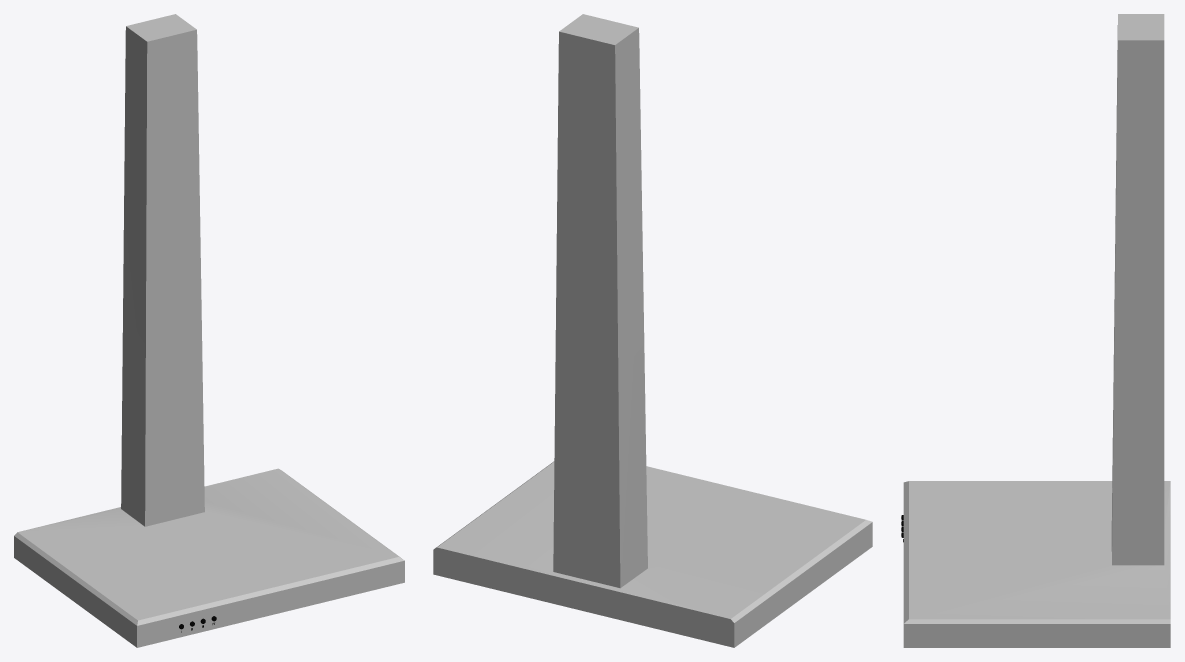
File: Oven_Top.fbx
The picture shows the model from 3 angles, left to right: view 1: azimuth 30°, elevation 25°; view 2: azimuth 150°, elevation 25°; view 3: azimuth 270°, elevation 25°; orthographic projection. The views are drawn at different scales.
Parts seen in each view (by area): view 1: Extractor Bonnet; view 2: Extractor Bonnet; view 3: Extractor Bonnet.
Boxes of the visible parts, x1=… form: Extractor Bonnet: x1=14, y1=14, x2=404, y2=647; Extractor Bonnet: x1=433, y1=14, x2=872, y2=647; Extractor Bonnet: x1=903, y1=14, x2=1170, y2=647.
Bounding box in the file's own units: 74.39 × 135 × 59.7.
Materials: 1 (1 with a texture image).
